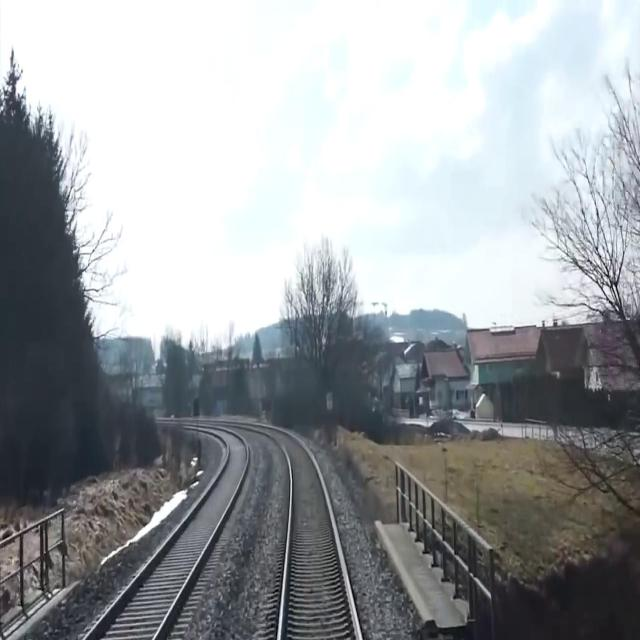rail-track: (90, 433, 244, 639), (276, 435, 355, 639)
